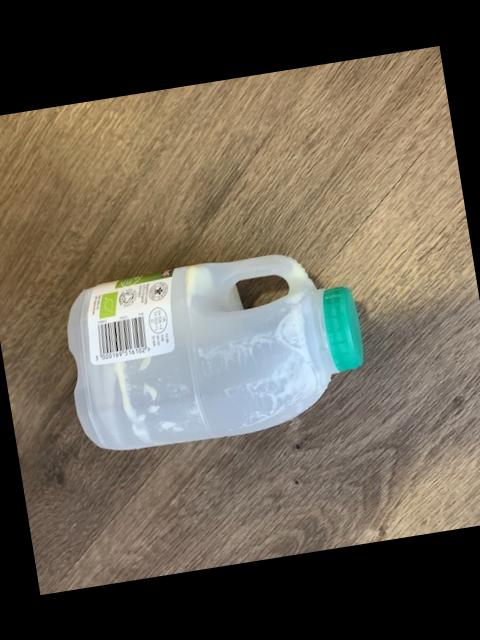plastic: (69, 253, 363, 447)
